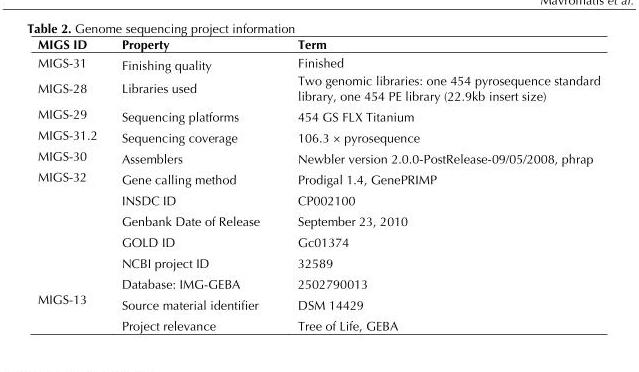table: (37, 36, 599, 332)
table column: (278, 36, 599, 332), (108, 36, 278, 332), (37, 36, 108, 332)
table column header: (37, 36, 599, 53)
table row: (37, 72, 599, 104), (37, 291, 599, 315), (37, 167, 599, 189), (37, 104, 599, 125), (37, 125, 599, 146), (37, 146, 599, 167), (37, 189, 599, 210), (37, 210, 599, 231), (37, 231, 599, 252), (37, 252, 599, 273), (37, 53, 599, 72), (37, 273, 599, 291), (37, 36, 599, 53), (37, 315, 599, 332)
table spanning cell: (37, 167, 108, 291), (37, 291, 108, 332)
